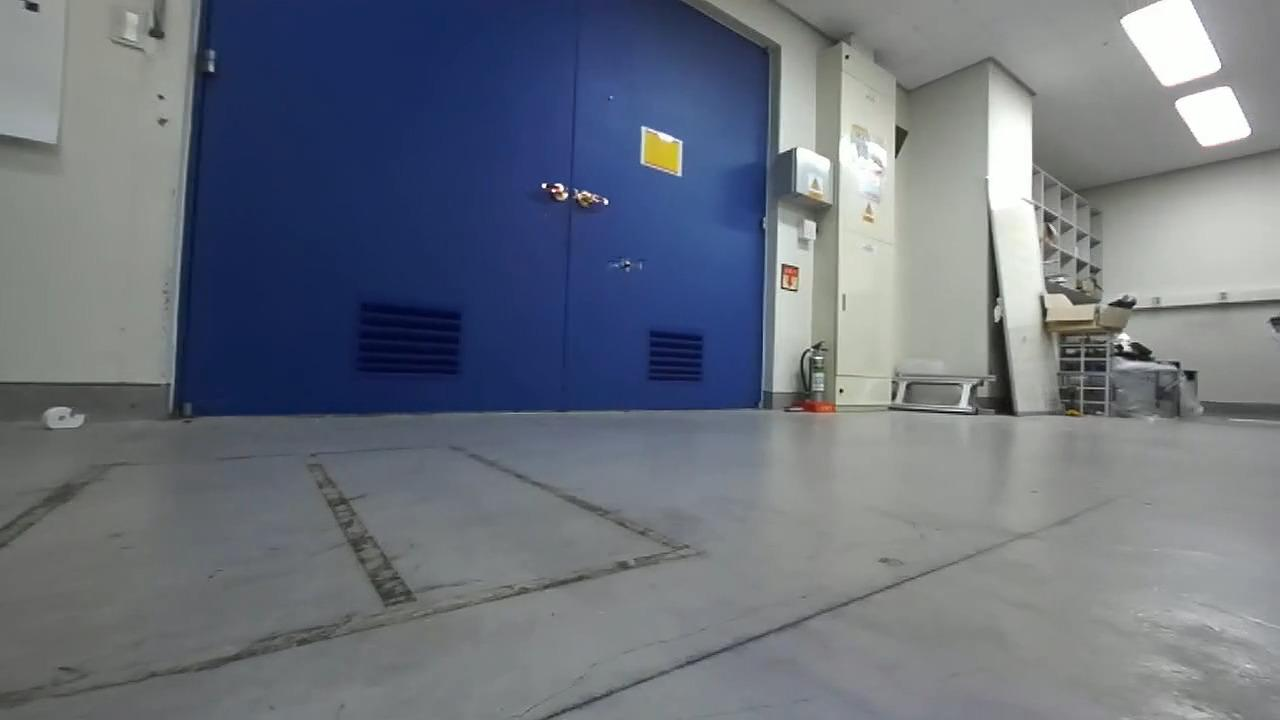crazyflie: (604, 253, 648, 276)
